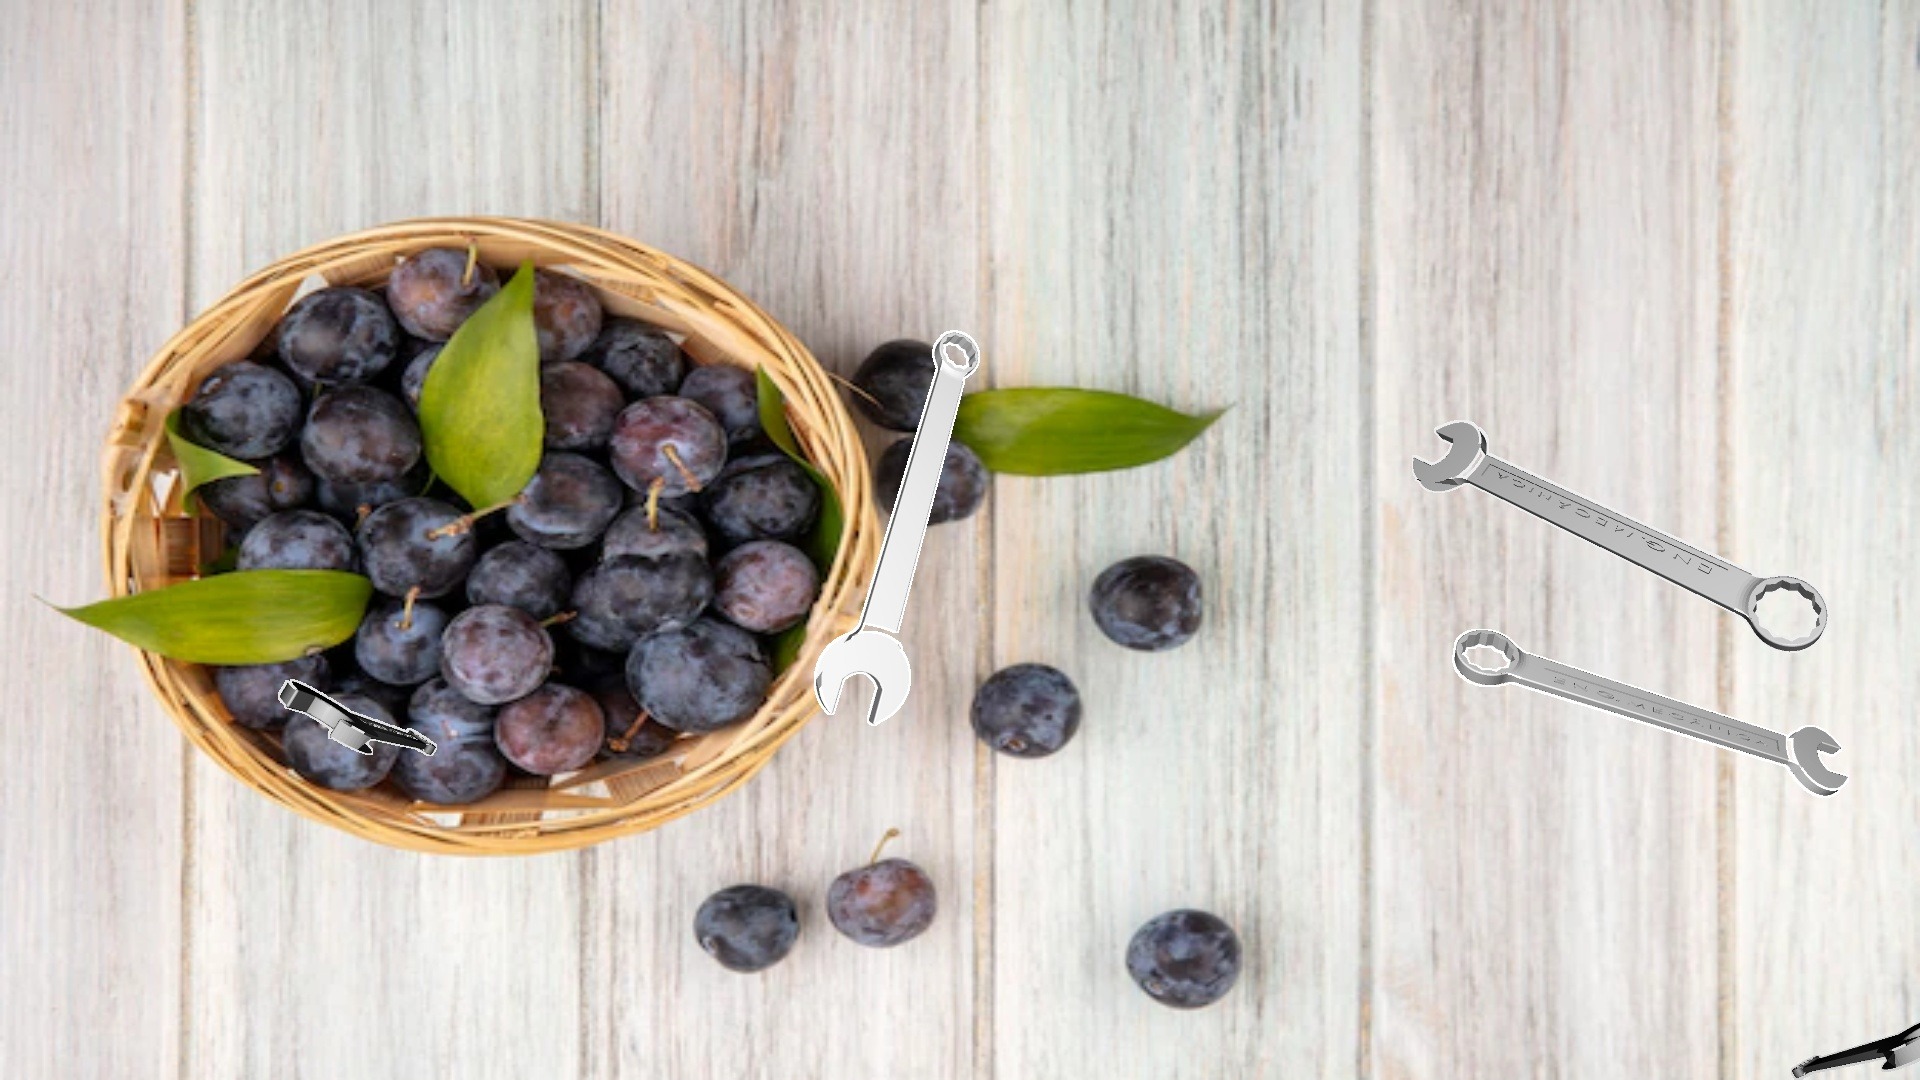Mixed Key: (1412, 421, 1829, 651), (1452, 629, 1847, 796), (814, 330, 978, 725), (278, 679, 436, 756), (1791, 1021, 1919, 1079)
